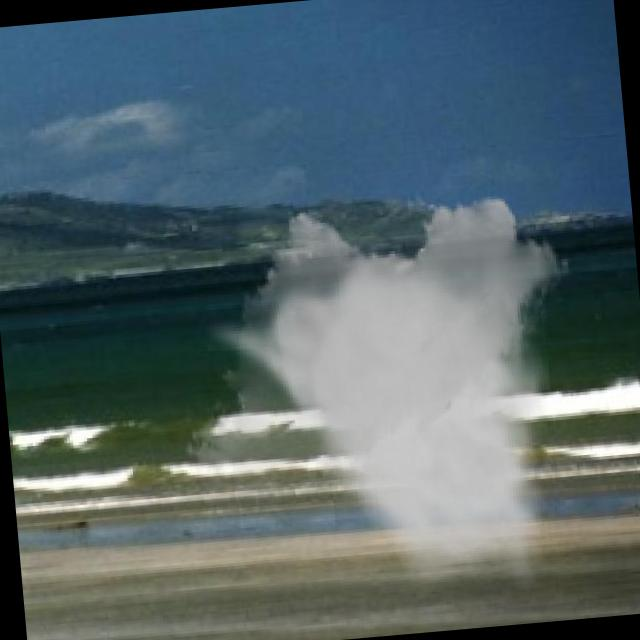Smoke: (162, 178, 599, 618)
